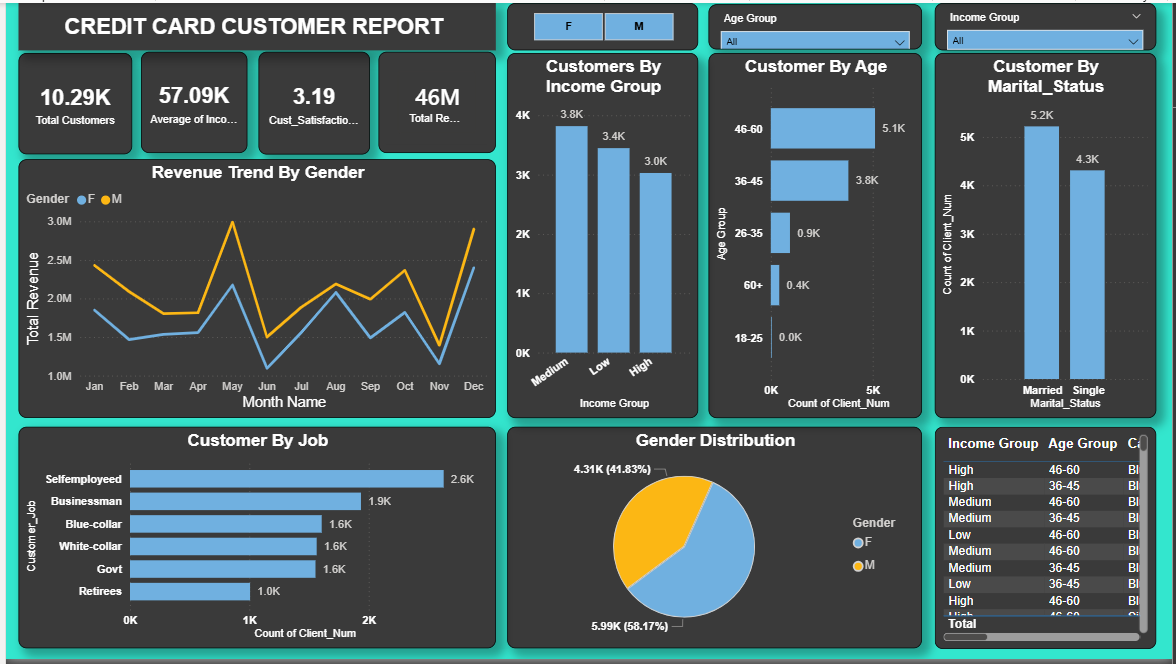

The page's visual inventory and layout, read from the dashboard file:
{"tool":"powerbi","page":{"name":"customer report","canvas":[1280,720],"ordinal":0},"visuals":[{"type":"card","fields":{"Values":["CountNonNull(customer.Client_Num)"]},"box":[13.7,54.9,124.9,111.1],"z":0},{"type":"card","fields":{"Values":["Avg(customer.Income)"]},"box":[148.2,53.5,116.6,111.1],"z":1000},{"type":"card","fields":{"Values":["Avg(customer.Cust_Satisfaction_Score)"]},"box":[277.2,53.5,122.1,112.5],"z":2000},{"type":"slicer","fields":{"Values":["customer.Age Group"]},"box":[842.5,0,419.9,83.7],"z":3000},{"type":"slicer","fields":{"Values":["customer.Income Group"]},"box":[771.2,93.3,491.3,71.4],"z":4000},{"type":"pieChart","title":"Gender Distribution","fields":{"Category":["customer.Gender"],"Y":["CountNonNull(customer.Client_Num)"]},"box":[771.2,177,234.6,271.7],"z":5000},{"type":"clusteredBarChart","title":"Customer By Age","fields":{"Category":["customer.Age Group"],"Y":["CountNonNull(customer.Client_Num)"]},"box":[550.3,465.2,301.9,242.9],"z":6000},{"type":"clusteredColumnChart","title":"Customers By Income Group","fields":{"Category":["customer.Income Group"],"Y":["CountNonNull(customer.Client_Num)"]},"box":[550.3,83.7,209.9,365],"z":7000},{"type":"clusteredBarChart","title":"Customer By Job","fields":{"Category":["customer.Customer_Job"],"Y":["CountNonNull(customer.Client_Num)"]},"box":[13.7,465.2,524.2,242.9],"z":8000},{"type":"actionButton","title":"Go To Transition Report","box":[0,5.1,108.9,47.7],"z":9000},{"type":"columnChart","title":"Customer By Marital_Status","fields":{"Category":["customer.Marital_Status"],"Y":["CountNonNull(CreditCard.Client_Num)"]},"box":[861.8,465.2,400.7,242.9],"z":10000},{"type":"textbox","box":[0,0,537.9,52.1],"z":11000},{"type":"actionButton","box":[0,0,54.9,39.8],"z":12000},{"type":"cardVisual","fields":{"Data":["CreditCard.Total Revenue"]},"box":[408.9,53.5,129,111.1],"z":13000},{"type":"lineChart","title":"Revenue Trend By Gender","fields":{"Series":["customer.Gender"],"Y":["CreditCard.Total Revenue"],"Category":["CreditCard.Month Name"]},"box":[13.7,171.5,524.2,284],"z":14000},{"type":"pivotTable","fields":{"Rows":["customer.Income Group","customer.Age Group","CreditCard.Card_Category","customer.Gender"],"Values":["CreditCard.Total Customers","CreditCard.Total Revenue","CreditCard.Total Transactions","CreditCard.Avg Revenue per Customer"]},"box":[1016.8,177,256.6,271.7],"z":15000},{"type":"slicer","fields":{"Values":["customer.Gender"]},"box":[550.3,0,286.8,68.6],"z":16000}]}

Visuals, with their boxes in screenshot pixels (x1, y1, x2, y2), scaled from the page's 1280x720 canvas onto the 1176x664 screenshot:
card - CountNonNull(customer.Client_Num): 13, 51, 127, 153
card - Avg(customer.Income): 136, 49, 243, 152
card - Avg(customer.Cust_Satisfaction_Score): 255, 49, 367, 153
slicer - customer.Age Group: 774, 0, 1160, 77
slicer - customer.Income Group: 709, 86, 1160, 152
"Gender Distribution" pieChart: 709, 163, 924, 414
"Customer By Age" clusteredBarChart: 506, 429, 783, 653
"Customers By Income Group" clusteredColumnChart: 506, 77, 698, 414
"Customer By Job" clusteredBarChart: 13, 429, 494, 653
"Go To Transition Report" actionButton: 0, 5, 100, 49
"Customer By Marital_Status" columnChart: 792, 429, 1160, 653
textbox: 0, 0, 494, 48
actionButton: 0, 0, 50, 37
cardVisual - CreditCard.Total Revenue: 376, 49, 494, 152
"Revenue Trend By Gender" lineChart: 13, 158, 494, 420
pivotTable - customer.Income Group x customer.Age Group: 934, 163, 1170, 414
slicer - customer.Gender: 506, 0, 769, 63
